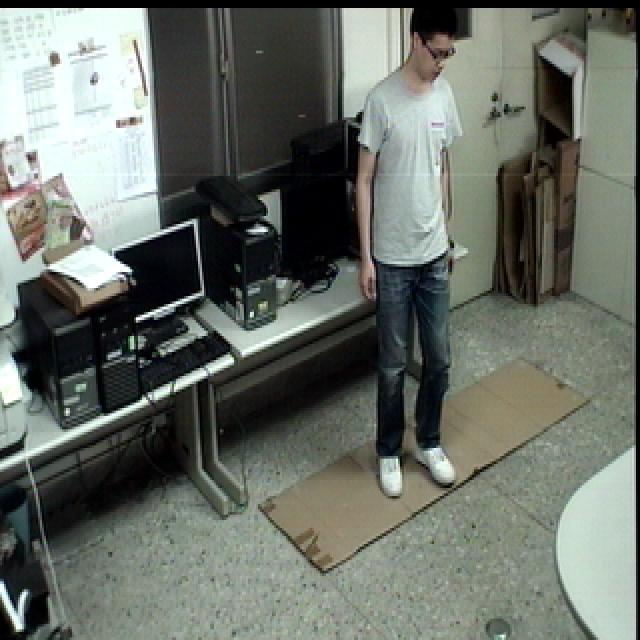stand: (348, 5, 471, 509)
